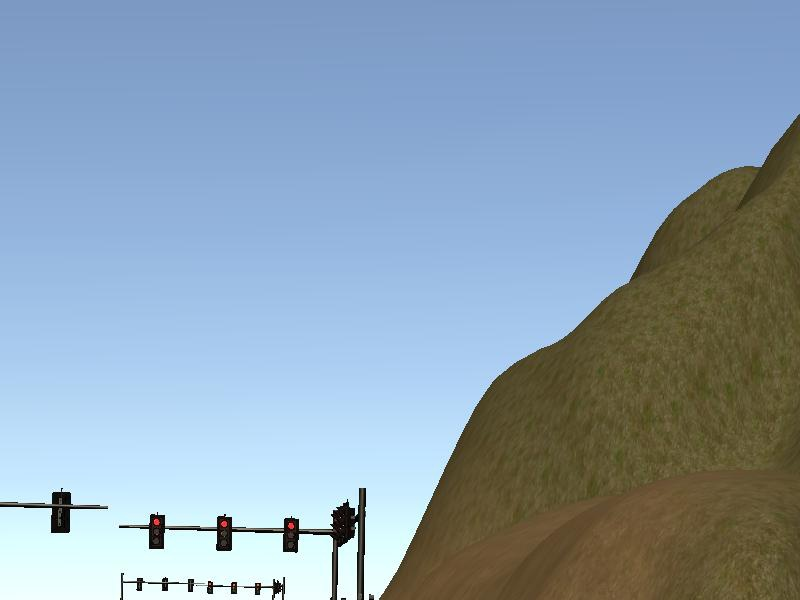red_light: (150, 515, 165, 551), (217, 516, 233, 549), (285, 519, 297, 554)
